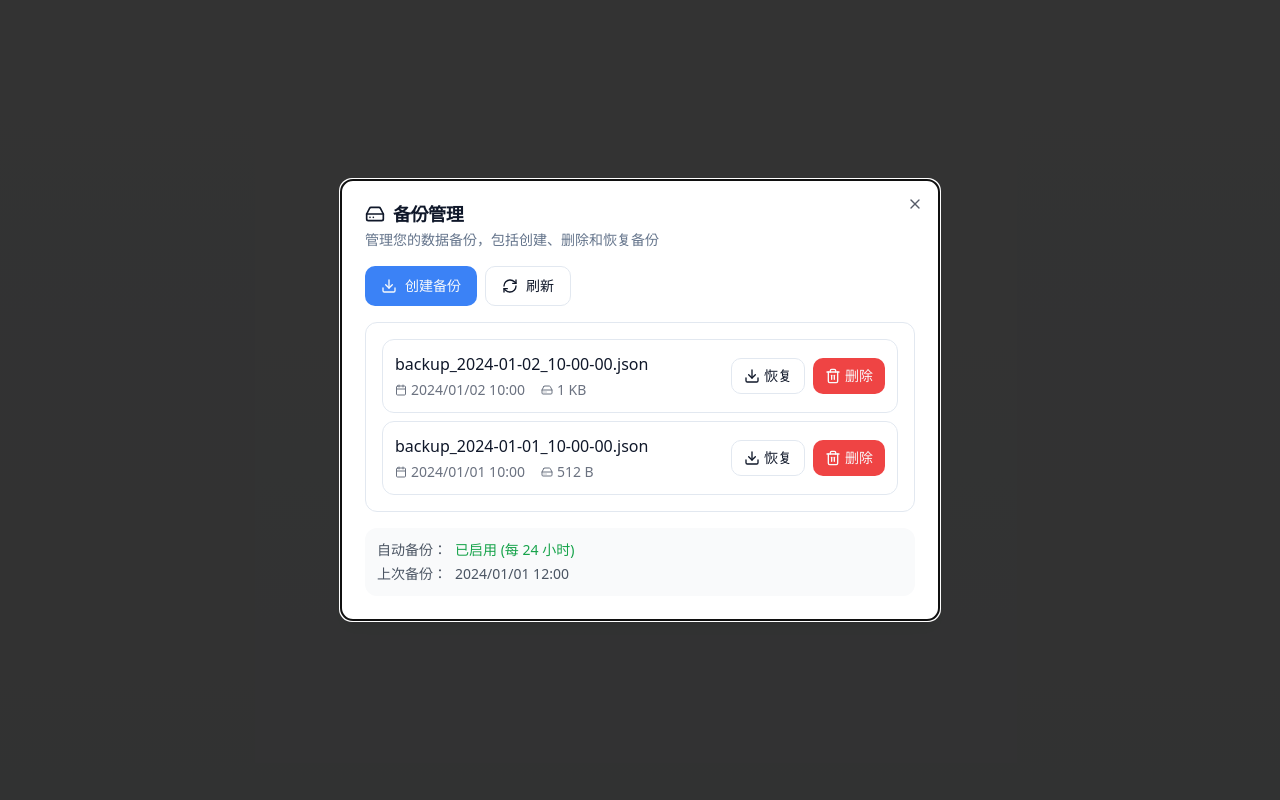
Test: BackupManagerModal › should handle restore error
The width and height of the screenshot is (1280, 800).
Expected: the text "backup_2024-01-02_10-00-00.json" is shown, [395,353,648,375]
What coordinates should you click on to do the following:
click the button "恢复" next to "backup_2024-01-02_10-00-00.json"
I would click on:
 (768, 376)
Its box is [731,358,805,394].
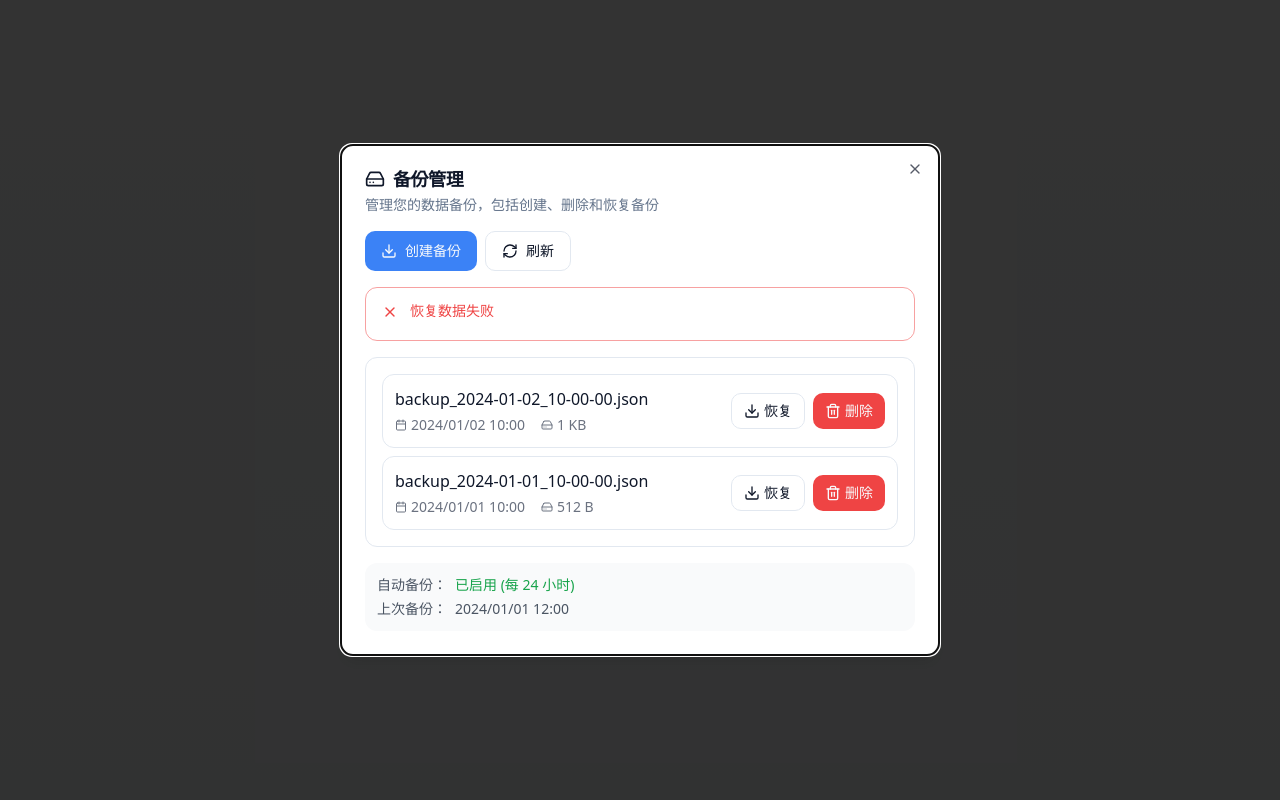
Expected: the text "恢复数据失败" is shown, [410,301,494,320]
